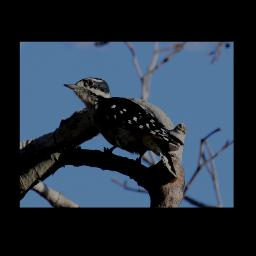Woodpecker: (61, 76, 186, 177)
